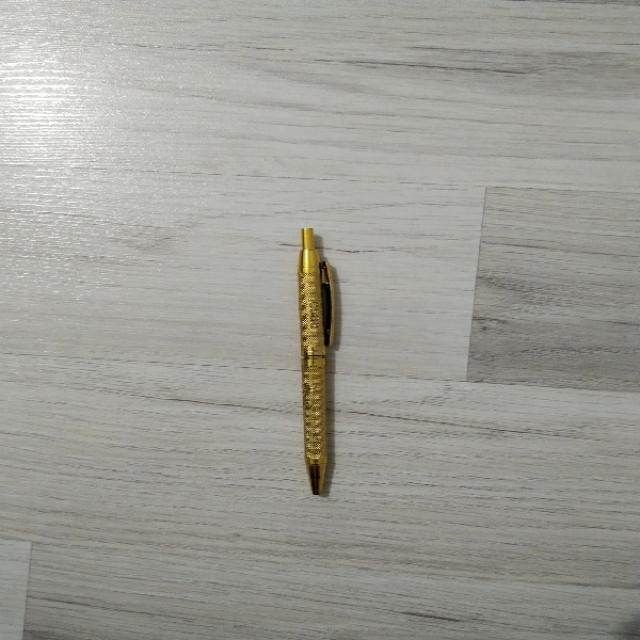signature pen: (299, 229, 333, 494)
